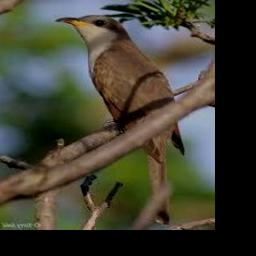Cuckoo: (55, 15, 184, 226)
